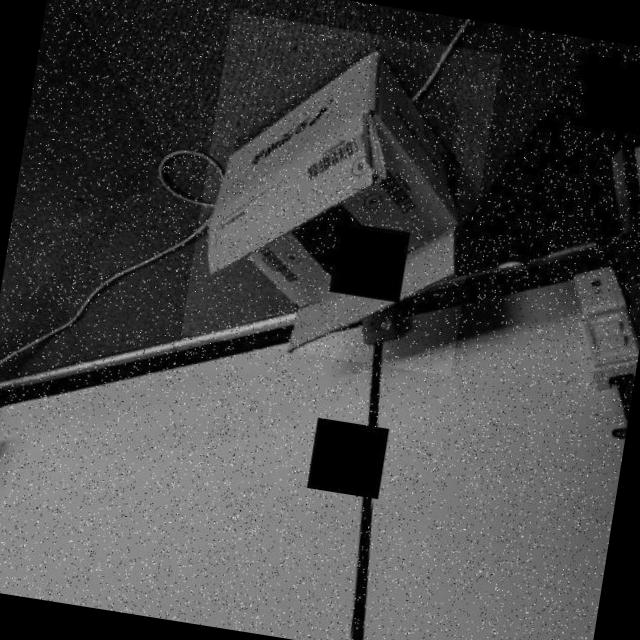box: (181, 12, 502, 377)
